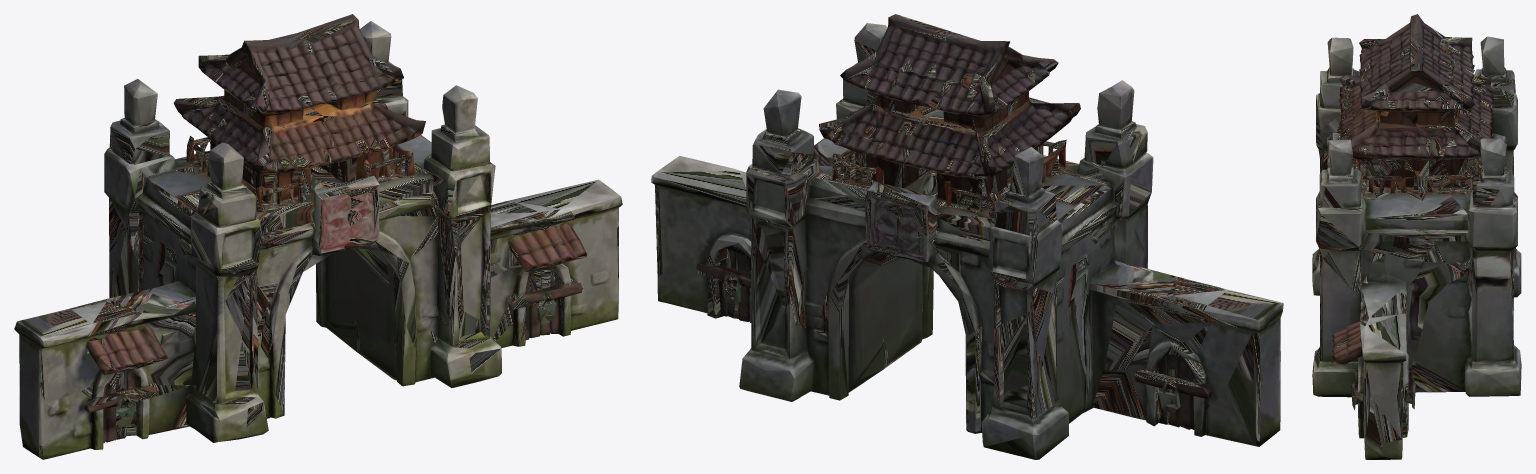
The model's file is cong-lang-khac-dau-xa.e9e340b6.glb.
3 views of the same model, side by side, from view 1: azimuth 30°, elevation 25°; view 2: azimuth 150°, elevation 25°; view 3: azimuth 270°, elevation 25° (orthographic). The views are drawn at different scales.
Visible parts, largest first — view 1: tripo_node_4275f2ba-d3f9-4a52-b65b-04fd95d95cd3; view 2: tripo_node_4275f2ba-d3f9-4a52-b65b-04fd95d95cd3; view 3: tripo_node_4275f2ba-d3f9-4a52-b65b-04fd95d95cd3.
Part boxes in pixels (x1,y1,x2,y2): tripo_node_4275f2ba-d3f9-4a52-b65b-04fd95d95cd3: [14, 14, 622, 459]; tripo_node_4275f2ba-d3f9-4a52-b65b-04fd95d95cd3: [651, 14, 1283, 459]; tripo_node_4275f2ba-d3f9-4a52-b65b-04fd95d95cd3: [1312, 14, 1521, 459].
Size of the model in its own units: 0.9774 by 0.5476 by 0.3454.
Materials: 1 (1 with a texture image).
